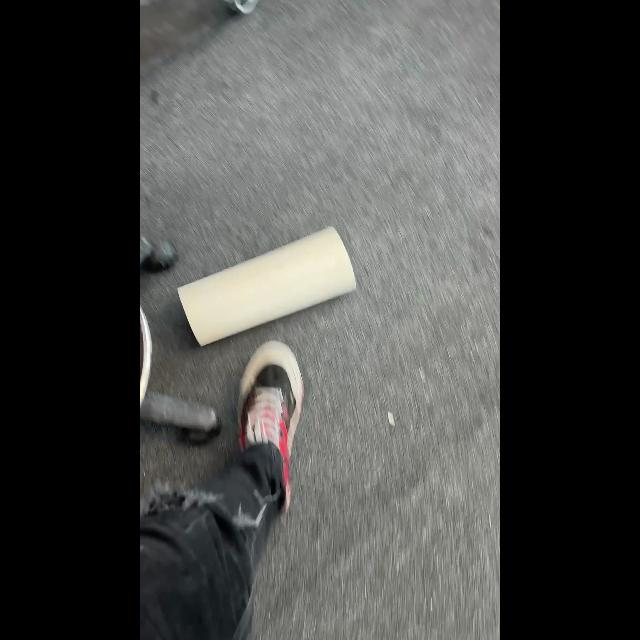CORAL: (176, 225, 356, 347)
